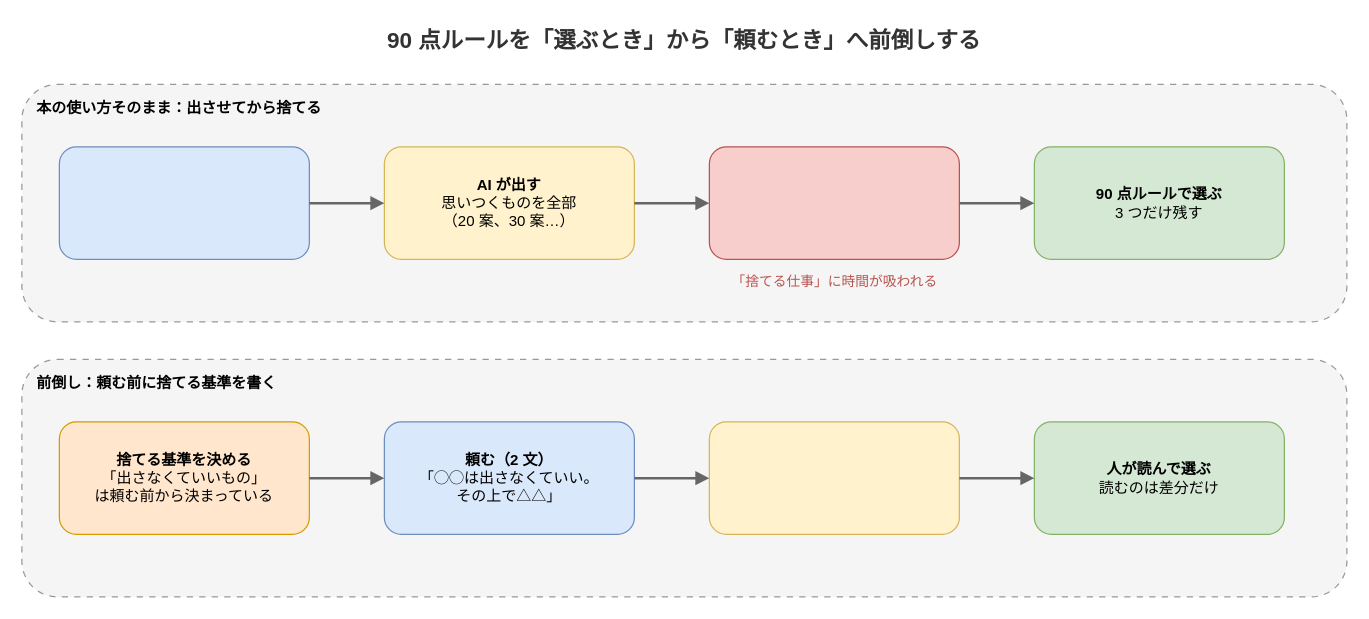
This 1369x619 diagram has some shape labels left out. The shapes that lost their labels are listed below. From the top down, each one's centre as x and y in pixels, then its label:
At pixel 183 202: "頼む 「良いものを出して」 「多角的に 30 案」".
At pixel 833 202: "人が全部読む 当たり前の案や 既知の情報も混ざる".
At pixel 833 477: "AI が出す 基準を外れたものは 最初から並ばない".
